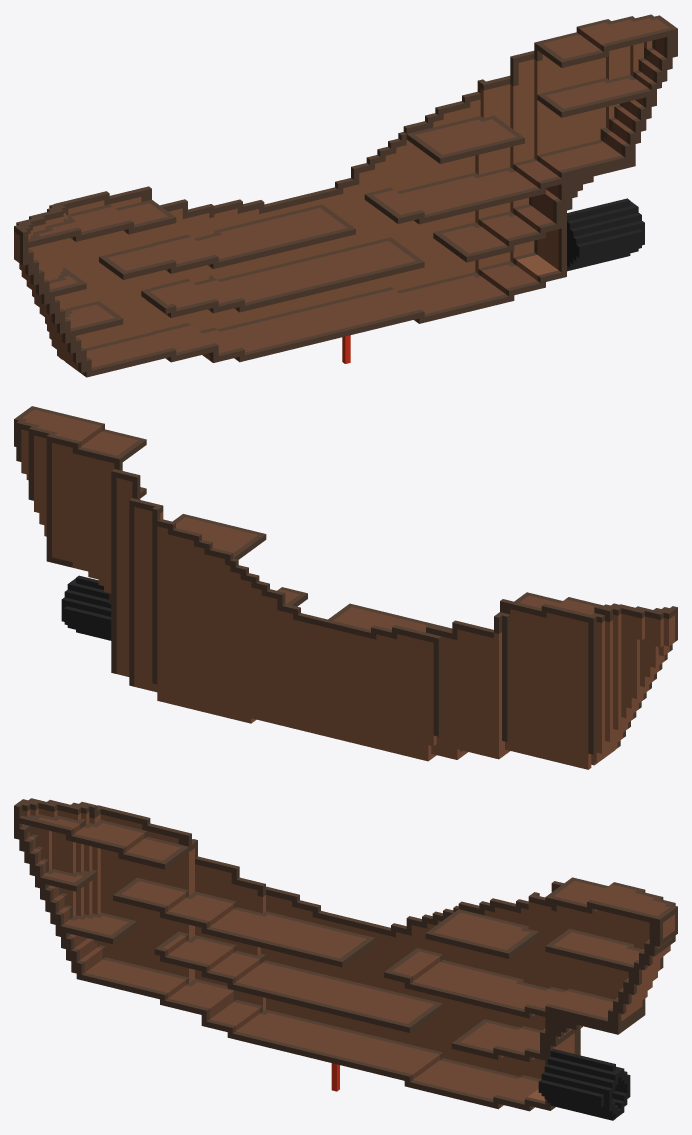
The model's file is boat_03.obj.
The picture shows the model from 3 angles, top to bottom: view 1: azimuth 30°, elevation 25°; view 2: azimuth 150°, elevation 25°; view 3: azimuth 330°, elevation 25°; orthographic projection.
Size of the model in its own units: 124 by 46 by 16.
Materials: 1 (1 with a texture image).
